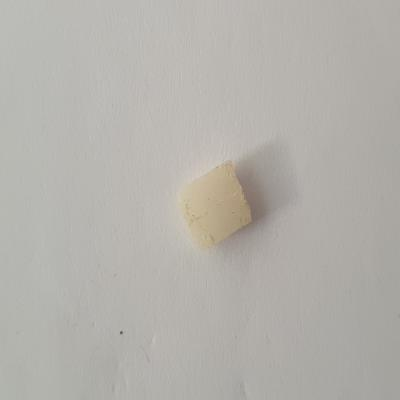plastic: (172, 157, 257, 250)
